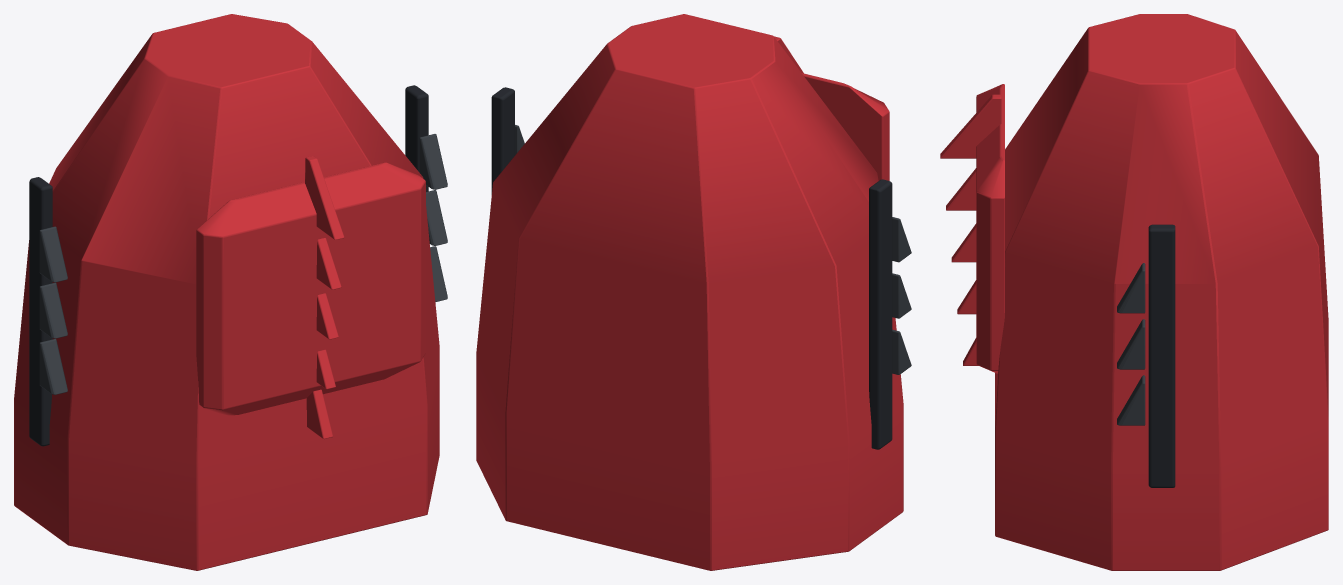
File: QuadBodyFront_Set04_Ripjaw.fbx
The picture shows the model from 3 angles, left to right: view 1: azimuth 30°, elevation 25°; view 2: azimuth 150°, elevation 25°; view 3: azimuth 270°, elevation 25°; orthographic projection.
Visible parts, largest first — view 1: QuadBodyFront_Set04_Ripjaw; view 2: QuadBodyFront_Set04_Ripjaw; view 3: QuadBodyFront_Set04_Ripjaw.
Boxes of the visible parts, x1,y1,x2,y2 form: QuadBodyFront_Set04_Ripjaw: [14, 14, 447, 570]; QuadBodyFront_Set04_Ripjaw: [476, 14, 911, 570]; QuadBodyFront_Set04_Ripjaw: [940, 14, 1328, 570].
Bounding box in the file's own units: 0.96 × 1 × 0.8151.
